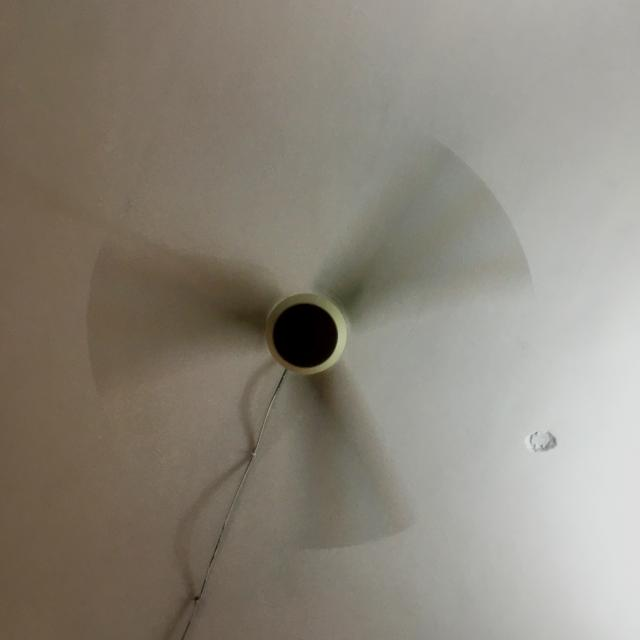on: (75, 131, 545, 555)
